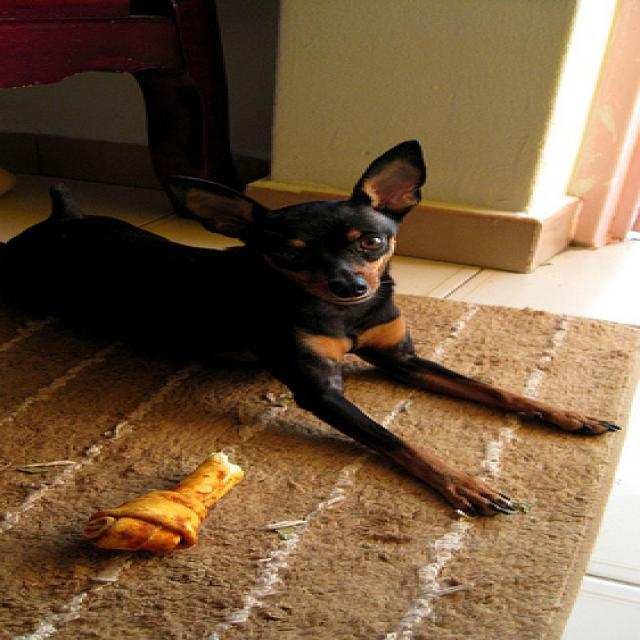dog-miniature_pinscher: (2, 129, 631, 527)
